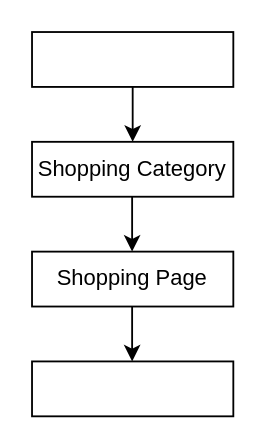
The diagram is 265 pixels wide and 448 high, and some of its shapes have lost their labels. The shapes that lost their labels are listed below. From the top down, each one's box as (x1, y1, x2, y2) in pixels, then its label:
(30, 30, 233, 87): Shopping Preset
(30, 360, 233, 416): List Component
